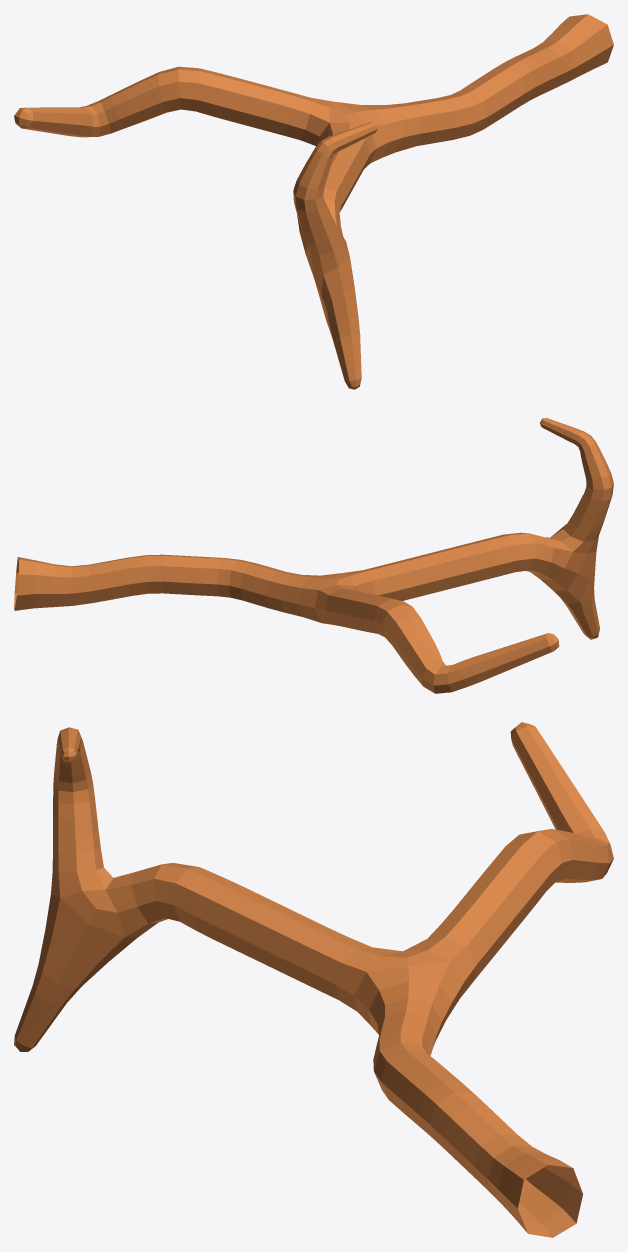
The model's file is tree_branch.gltf.
3 renders of one model, top to bottom at view 1: azimuth 30°, elevation 25°; view 2: azimuth 150°, elevation 25°; view 3: azimuth 270°, elevation 25°, orthographic. The views are drawn at different scales.
Visible parts, largest first — view 1: Plane.008; view 2: Plane.008; view 3: Plane.008.
Boxes of the visible parts, left/top/right/bottom form: Plane.008: left=14, top=14, right=613, bottom=389; Plane.008: left=14, top=418, right=613, bottom=693; Plane.008: left=14, top=722, right=613, bottom=1237.
Bounding box in the file's own units: 12.43 × 4.89 × 8.14.
